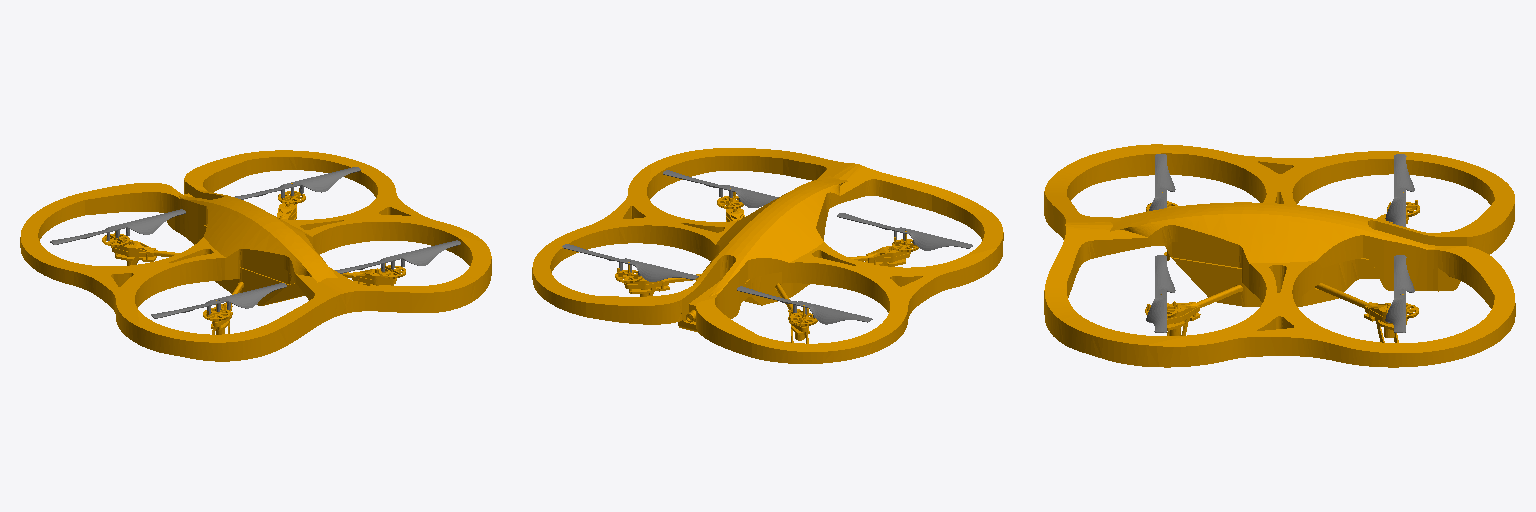
robot.urdf — parrot:
<!-- <?xml version="1.0" ?>
<robot name="environment">
<link name="base_link">
  <inertial>
    <origin rpy="0 0 1.75" xyz="0 0 0"/>
    <mass value="0.2"/>
    <inertia ixx="1.0" ixy="0" ixz="0" iyy="1.0" iyz="0" izz="1.0"/>
  </inertial>
  <visual>
    <origin rpy="0 0 0" xyz="0 0 0"/>
    <geometry>
      <mesh filename="meshes/uav.obj" scale="0.01 0.01 0.01" />
    </geometry>
  </visual>
  <collision>
      <origin rpy="0 0 0" xyz="0 0 0" />
      <geometry>
	 	    <sphere radius="0.5"/>
      </geometry>
  </collision>
</link>
</robot>
<?xml version="1.0" ?> -->

<robot name="parrot">
  <properties arm="0.0397" kf="3.16e-10" km="7.94e-12" thrust2weight="2.25" max_speed_kmh="30" gnd_eff_coeff="11.36859" prop_radius="2.31348e-2" drag_coeff_xy="9.1785e-7" drag_coeff_z="10.311e-7" dw_coeff_1="2267.18" dw_coeff_2=".16" dw_coeff_3="-.11" />

  <link name="base_link">
    <inertial>
      <origin rpy="0 0 0" xyz="0 0 0"/>
      <mass value="1"/>
      <inertia ixx="1" ixy="0.0" ixz="0.0" iyy="1" iyz="0.0" izz="1"/>
    </inertial>
    <visual>
      <origin rpy="0 0 0" xyz="0 0 0"/>
      <geometry>
        <mesh filename="meshes/uav.obj" scale="0.01 0.01 0.01"/>
      </geometry>
    </visual>
  </link>
  <link name="prop0_link">
    <visual>
      <origin rpy="0 0 0" xyz="0 0 0"/>
      <geometry>
        <mesh filename="meshes/rotor.obj" scale="1 1 1"/>
      </geometry>
      <material name="grey">
        <color rgba=".5 .5 .5 1"/>
      </material>
    </visual>
    <inertial>
      <origin rpy="0 0 0" xyz="0 0 0"/>
      <mass value="0.1"/>
      <inertia ixx="0" ixy="0" ixz="0" iyy="0" iyz="0" izz="0"/>
    </inertial>
  </link>
  <joint name="prop0_joint" type="continuous">
    <parent link="base_link"/>
    <child link="prop0_link"/>
    <origin rpy="0 0 0" xyz="1.275 0.70 0.55"/>
    <axis rpy="0 0 0" xyz="0 0 1"/>
  </joint>

  <link name="prop1_link">
    <visual>
      <origin rpy="0 0 0" xyz="0 0 0"/>
      <geometry>
        <mesh filename="meshes/rotor.obj" scale="1 1 1"/>
      </geometry>
      <material name="grey">
        <color rgba=".5 .5 .5 1"/>
      </material>
    </visual>
    <inertial>
      <origin rpy="0 0 0" xyz="0 0 0"/>
      <mass value="0.1"/>
      <inertia ixx="0" ixy="0" ixz="0" iyy="0" iyz="0" izz="0"/>
    </inertial>
  </link>
  <joint name="prop1_joint" type="continuous">
    <parent link="base_link"/>
    <child link="prop1_link"/>
    <origin rpy="0 0 0" xyz="1.275 -1.85 0.55"/>
    <axis rpy="0 0 0" xyz="0 0 1"/>
  </joint>

  <link name="prop2_link">
    <visual>
      <origin rpy="0 0 0" xyz="0 0 0"/>
      <geometry>
        <mesh filename="meshes/rotor.obj" scale="1 1 1"/>
      </geometry>
      <material name="grey">
        <color rgba=".5 .5 .5 1"/>
      </material>
    </visual>
    <inertial>
      <origin rpy="0 0 0" xyz="0 0 0"/>
      <mass value="0.1"/>
      <inertia ixx="0" ixy="0" ixz="0" iyy="0" iyz="0" izz="0"/>
    </inertial>
  </link>
  <joint name="prop2_joint" type="continuous">
    <parent link="base_link"/>
    <child link="prop2_link"/>
    <origin rpy="0 0 0" xyz="-1.275 -1.85 0.55"/>
    <axis rpy="0 0 0" xyz="0 0 1"/>
  </joint>

  <link name="prop3_link">
    <visual>
      <origin rpy="0 0 0" xyz="0 0 0"/>
      <geometry>
        <mesh filename="meshes/rotor.obj" scale="1 1 1"/>
      </geometry>
      <material name="grey">
        <color rgba=".5 .5 .5 1"/>
      </material>
    </visual>
    <inertial>
      <origin rpy="0 0 0" xyz="0 0 0"/>
      <mass value="0.1"/>
      <inertia ixx="0" ixy="0" ixz="0" iyy="0" iyz="0" izz="0"/>
    </inertial>
  </link>
  <joint name="prop3_joint" type="continuous">
    <parent link="base_link"/>
    <child link="prop3_link"/>
    <origin rpy="0 0 0" xyz="-1.275 0.70 0.55"/>
    <axis rpy="0 0 0" xyz="0 0 1"/>
  </joint>

</robot>

--- Facts derived from the render (not from the file) ---
The picture shows the robot from 3 angles, left to right: view 1: azimuth 30°, elevation 25°; view 2: azimuth 150°, elevation 25°; view 3: azimuth 270°, elevation 25°; orthographic projection.
Robot: parrot — 5 links, 4 joints (4 continuous); root link base_link; default pose: all joints at 0.
Visible links, largest first — view 1: base_link, prop2_link, prop3_link, prop1_link, prop0_link; view 2: base_link, prop0_link, prop3_link, prop2_link, prop1_link; view 3: base_link, prop0_link, prop1_link, prop3_link, prop2_link.
Boxes of the visible links, x1,y1,x2,y2 form: base_link: [20, 150, 491, 361]; prop2_link: [151, 283, 286, 318]; prop3_link: [50, 209, 185, 244]; prop1_link: [335, 240, 460, 273]; prop0_link: [235, 167, 360, 199]; base_link: [532, 148, 1003, 363]; prop0_link: [562, 244, 698, 281]; prop3_link: [737, 286, 872, 324]; prop2_link: [837, 213, 972, 250]; prop1_link: [663, 170, 778, 207]; base_link: [1044, 144, 1515, 367]; prop0_link: [1385, 255, 1414, 332]; prop1_link: [1146, 255, 1175, 332]; prop3_link: [1385, 154, 1414, 226]; prop2_link: [1149, 154, 1175, 210].
Bounding box of the posed robot: 5.09 × 5.02 × 1.16 m (x, y, z).
5 mesh visuals loaded from 2 distinct referenced files (2 OBJ).